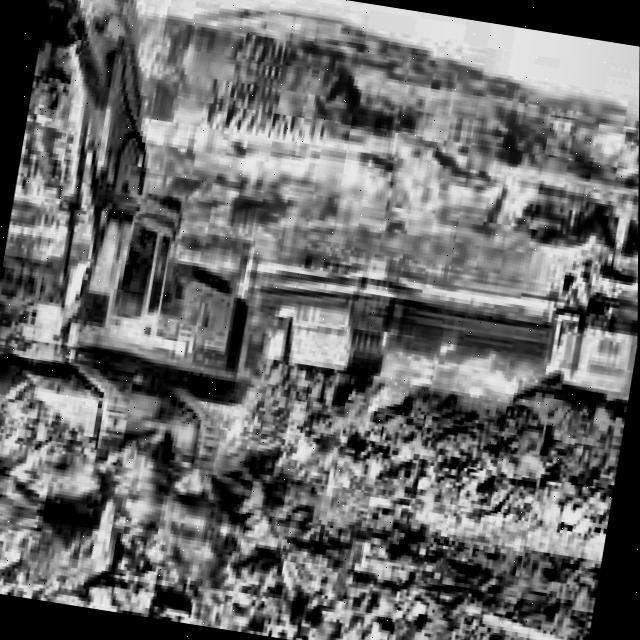dump_truck: (260, 291, 390, 404)
excavator: (0, 0, 312, 520), (526, 254, 639, 419)
